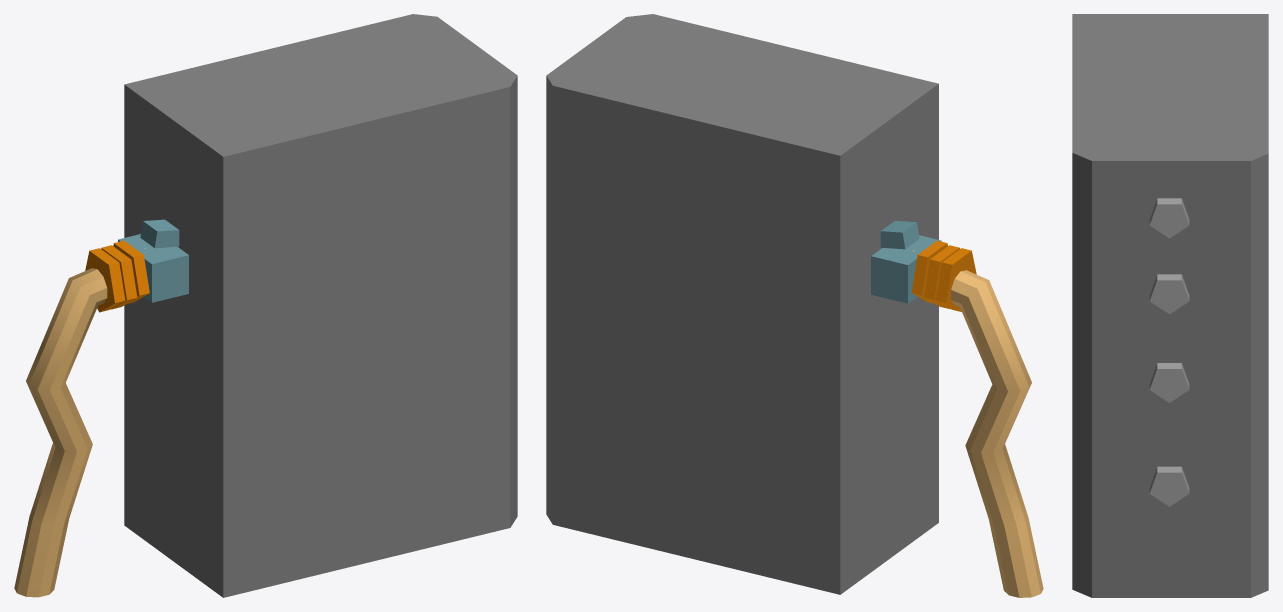
File: GasBuilding.fbx
3 views of the same model, side by side, from view 1: azimuth 30°, elevation 25°; view 2: azimuth 150°, elevation 25°; view 3: azimuth 270°, elevation 25° (orthographic).
Parts seen in each view (by area): view 1: polySurface27; view 2: polySurface27; view 3: polySurface27.
Boxes of the visible parts, x1=… form: polySurface27: x1=14, y1=14, x2=517, y2=597; polySurface27: x1=546, y1=14, x2=1043, y2=597; polySurface27: x1=1072, y1=14, x2=1268, y2=597.
Bounding box in the file's own units: 46.96 × 42.02 × 17.1.
